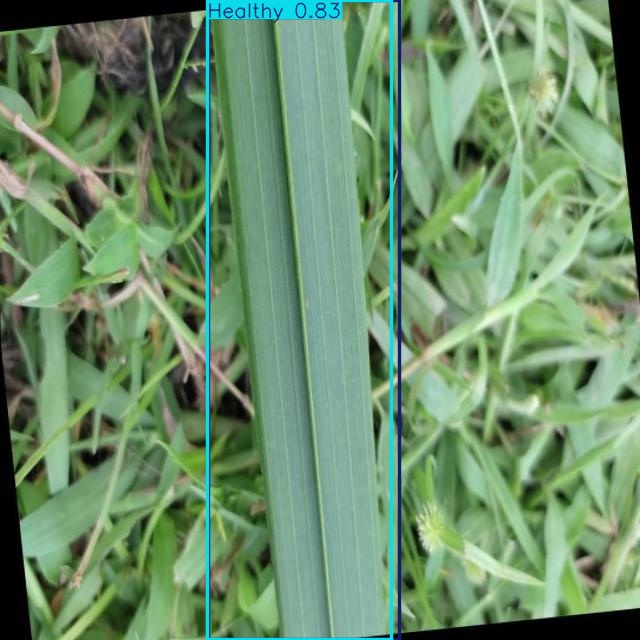Healthy: (208, 1, 391, 640)
nitrogen: (208, 1, 399, 640)
